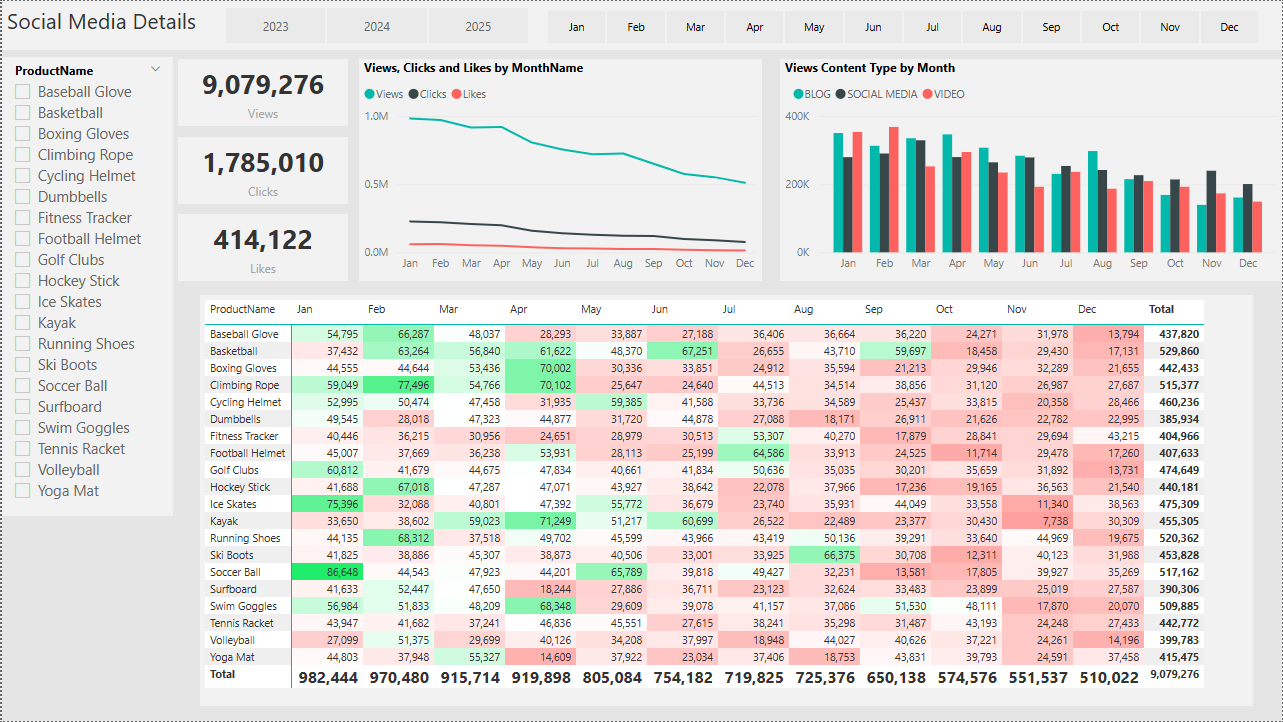

The page's visual inventory and layout, read from the dashboard file:
{"tool":"powerbi","page":{"name":"Social Media Details","canvas":[1280,720],"ordinal":2},"visuals":[{"type":"textbox","box":[0,0,1279.7,49.3],"z":0},{"type":"slicer","fields":{"Values":["dim_products.ProductName"]},"box":[0,56.4,171,458.5],"z":1000},{"type":"card","fields":{"Values":["_Mesure.Views"]},"box":[176.4,58.2,169.3,67.2],"z":6000},{"type":"card","fields":{"Values":["_Mesure.Clicks"]},"box":[176.4,136.1,169.3,67.2],"z":7000},{"type":"card","fields":{"Values":["_Mesure.Likes"]},"box":[176.4,213.1,169.3,67.2],"z":8000},{"type":"slicer","fields":{"Values":["Calendar.MonthNameShort"]},"box":[520.3,2.7,759.4,46.6],"z":10000},{"type":"slicer","fields":{"Values":["Calendar.Year"]},"box":[197.9,0,351.9,49.3],"z":11000},{"type":"lineChart","title":"Views, Clicks and Likes by MonthName","fields":{"Category":["Calendar.MonthNameShort"],"Y":["_Mesure.Views","_Mesure.Clicks","_Mesure.Likes"]},"box":[357.3,58.2,403,222.1],"z":15000},{"type":"clusteredColumnChart","title":"Views Content Type by Month","fields":{"Category":["Calendar.MonthNameShort"],"Y":["_Mesure.Views"],"Series":["fact_engagement.ContentType"]},"box":[778.2,58.2,501.5,222.1],"z":15001},{"type":"pivotTable","fields":{"Rows":["dim_products.ProductName","fact_engagement.ContentType"],"Columns":["Calendar.MonthNameShort"],"Values":["_Mesure.Views"]},"box":[197.9,293.7,1053.1,411],"z":15002}]}

Visuals, with their boxes in screenshot pixels (x1, y1, x2, y2), scaled from the page's 1280x720 canvas onto the 1283x722 screenshot:
textbox: [x1=0, y1=0, x2=1282, y2=49]
slicer - dim_products.ProductName: [x1=0, y1=57, x2=171, y2=516]
card - _Mesure.Views: [x1=177, y1=58, x2=347, y2=126]
card - _Mesure.Clicks: [x1=177, y1=136, x2=347, y2=204]
card - _Mesure.Likes: [x1=177, y1=214, x2=347, y2=281]
slicer - Calendar.MonthNameShort: [x1=522, y1=3, x2=1282, y2=49]
slicer - Calendar.Year: [x1=198, y1=0, x2=551, y2=49]
"Views, Clicks and Likes by MonthName" lineChart: [x1=358, y1=58, x2=762, y2=281]
"Views Content Type by Month" clusteredColumnChart: [x1=780, y1=58, x2=1282, y2=281]
pivotTable - dim_products.ProductName x fact_engagement.ContentType: [x1=198, y1=295, x2=1254, y2=707]
